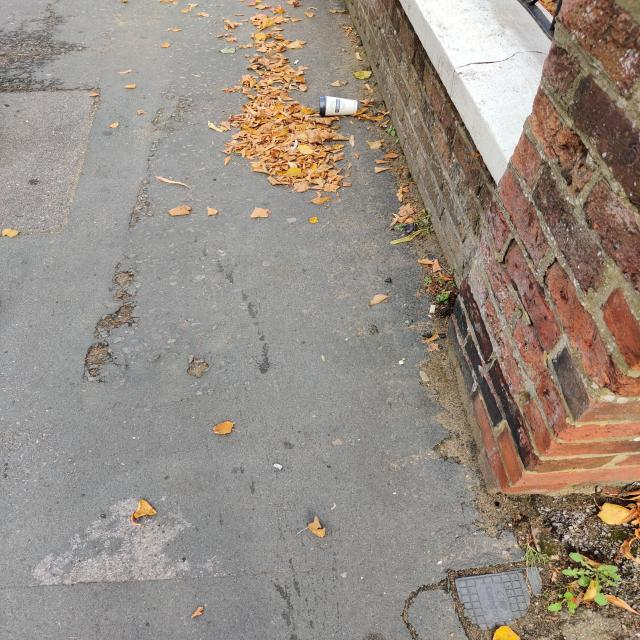litter: (320, 96, 357, 117)
